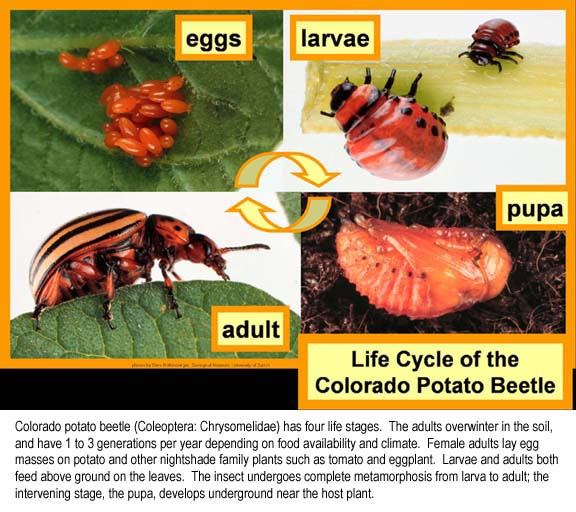hrosc: (24, 201, 230, 306)
